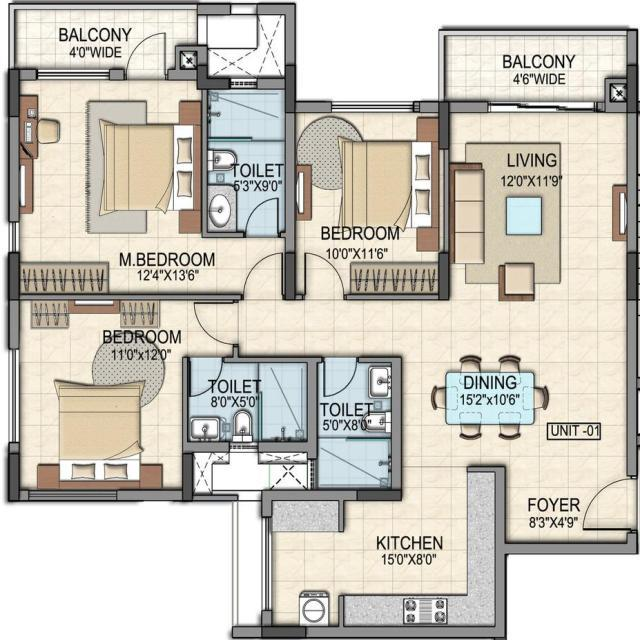Balcony-Sitout: (440, 33, 625, 104), (13, 5, 196, 69)
Bedroom: (289, 104, 440, 296)
Bedroom with Toilet: (15, 73, 285, 297), (13, 297, 313, 494)
Dining: (426, 355, 550, 442)
Enterance-Foyer: (502, 468, 634, 548)
Kitchen: (345, 469, 499, 630)
Living: (445, 108, 631, 321)
Toilet: (207, 89, 285, 232), (186, 360, 308, 444), (316, 360, 392, 488)
Utility: (269, 497, 342, 631)
